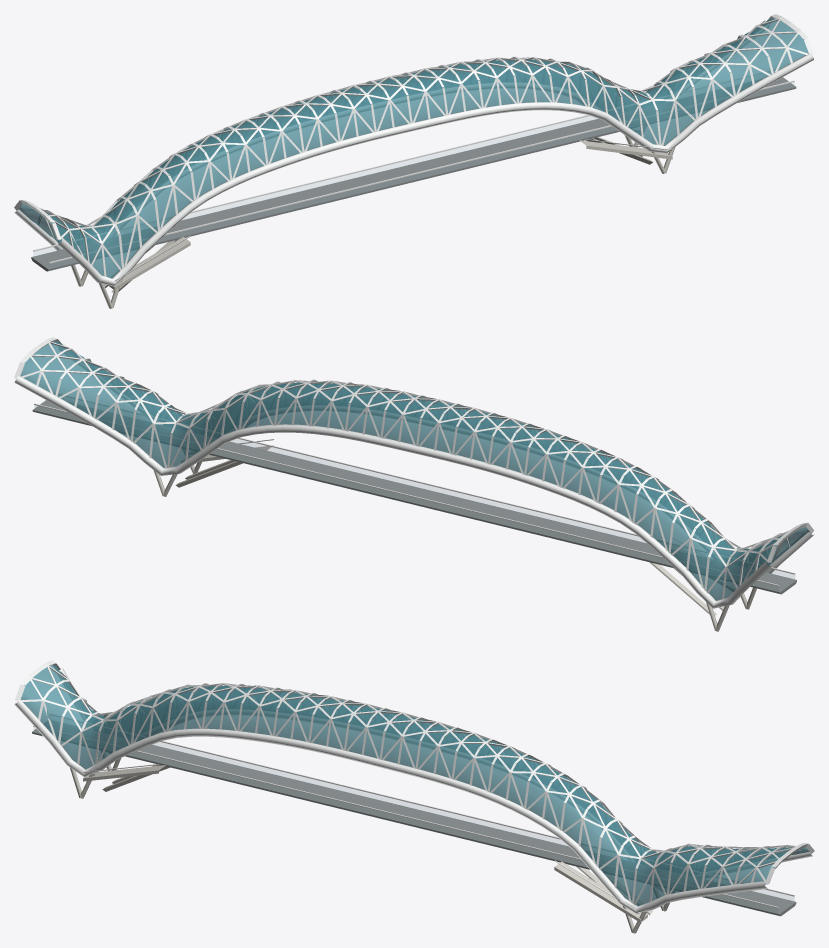
Rendered from tbilisi-bridge-of-peace.glb.
The picture shows the model from 3 angles, top to bottom: view 1: azimuth 30°, elevation 25°; view 2: azimuth 150°, elevation 25°; view 3: azimuth 330°, elevation 25°; orthographic projection.
Visible parts, largest first — view 1: Bridge of Peace; view 2: Bridge of Peace; view 3: Bridge of Peace.
Boxes of the visible parts, x1,y1,x2,y2 form: Bridge of Peace: [14, 14, 814, 308]; Bridge of Peace: [14, 337, 814, 631]; Bridge of Peace: [14, 660, 814, 933].
Bounding box in the file's own units: 149 × 27.26 × 16.57.
